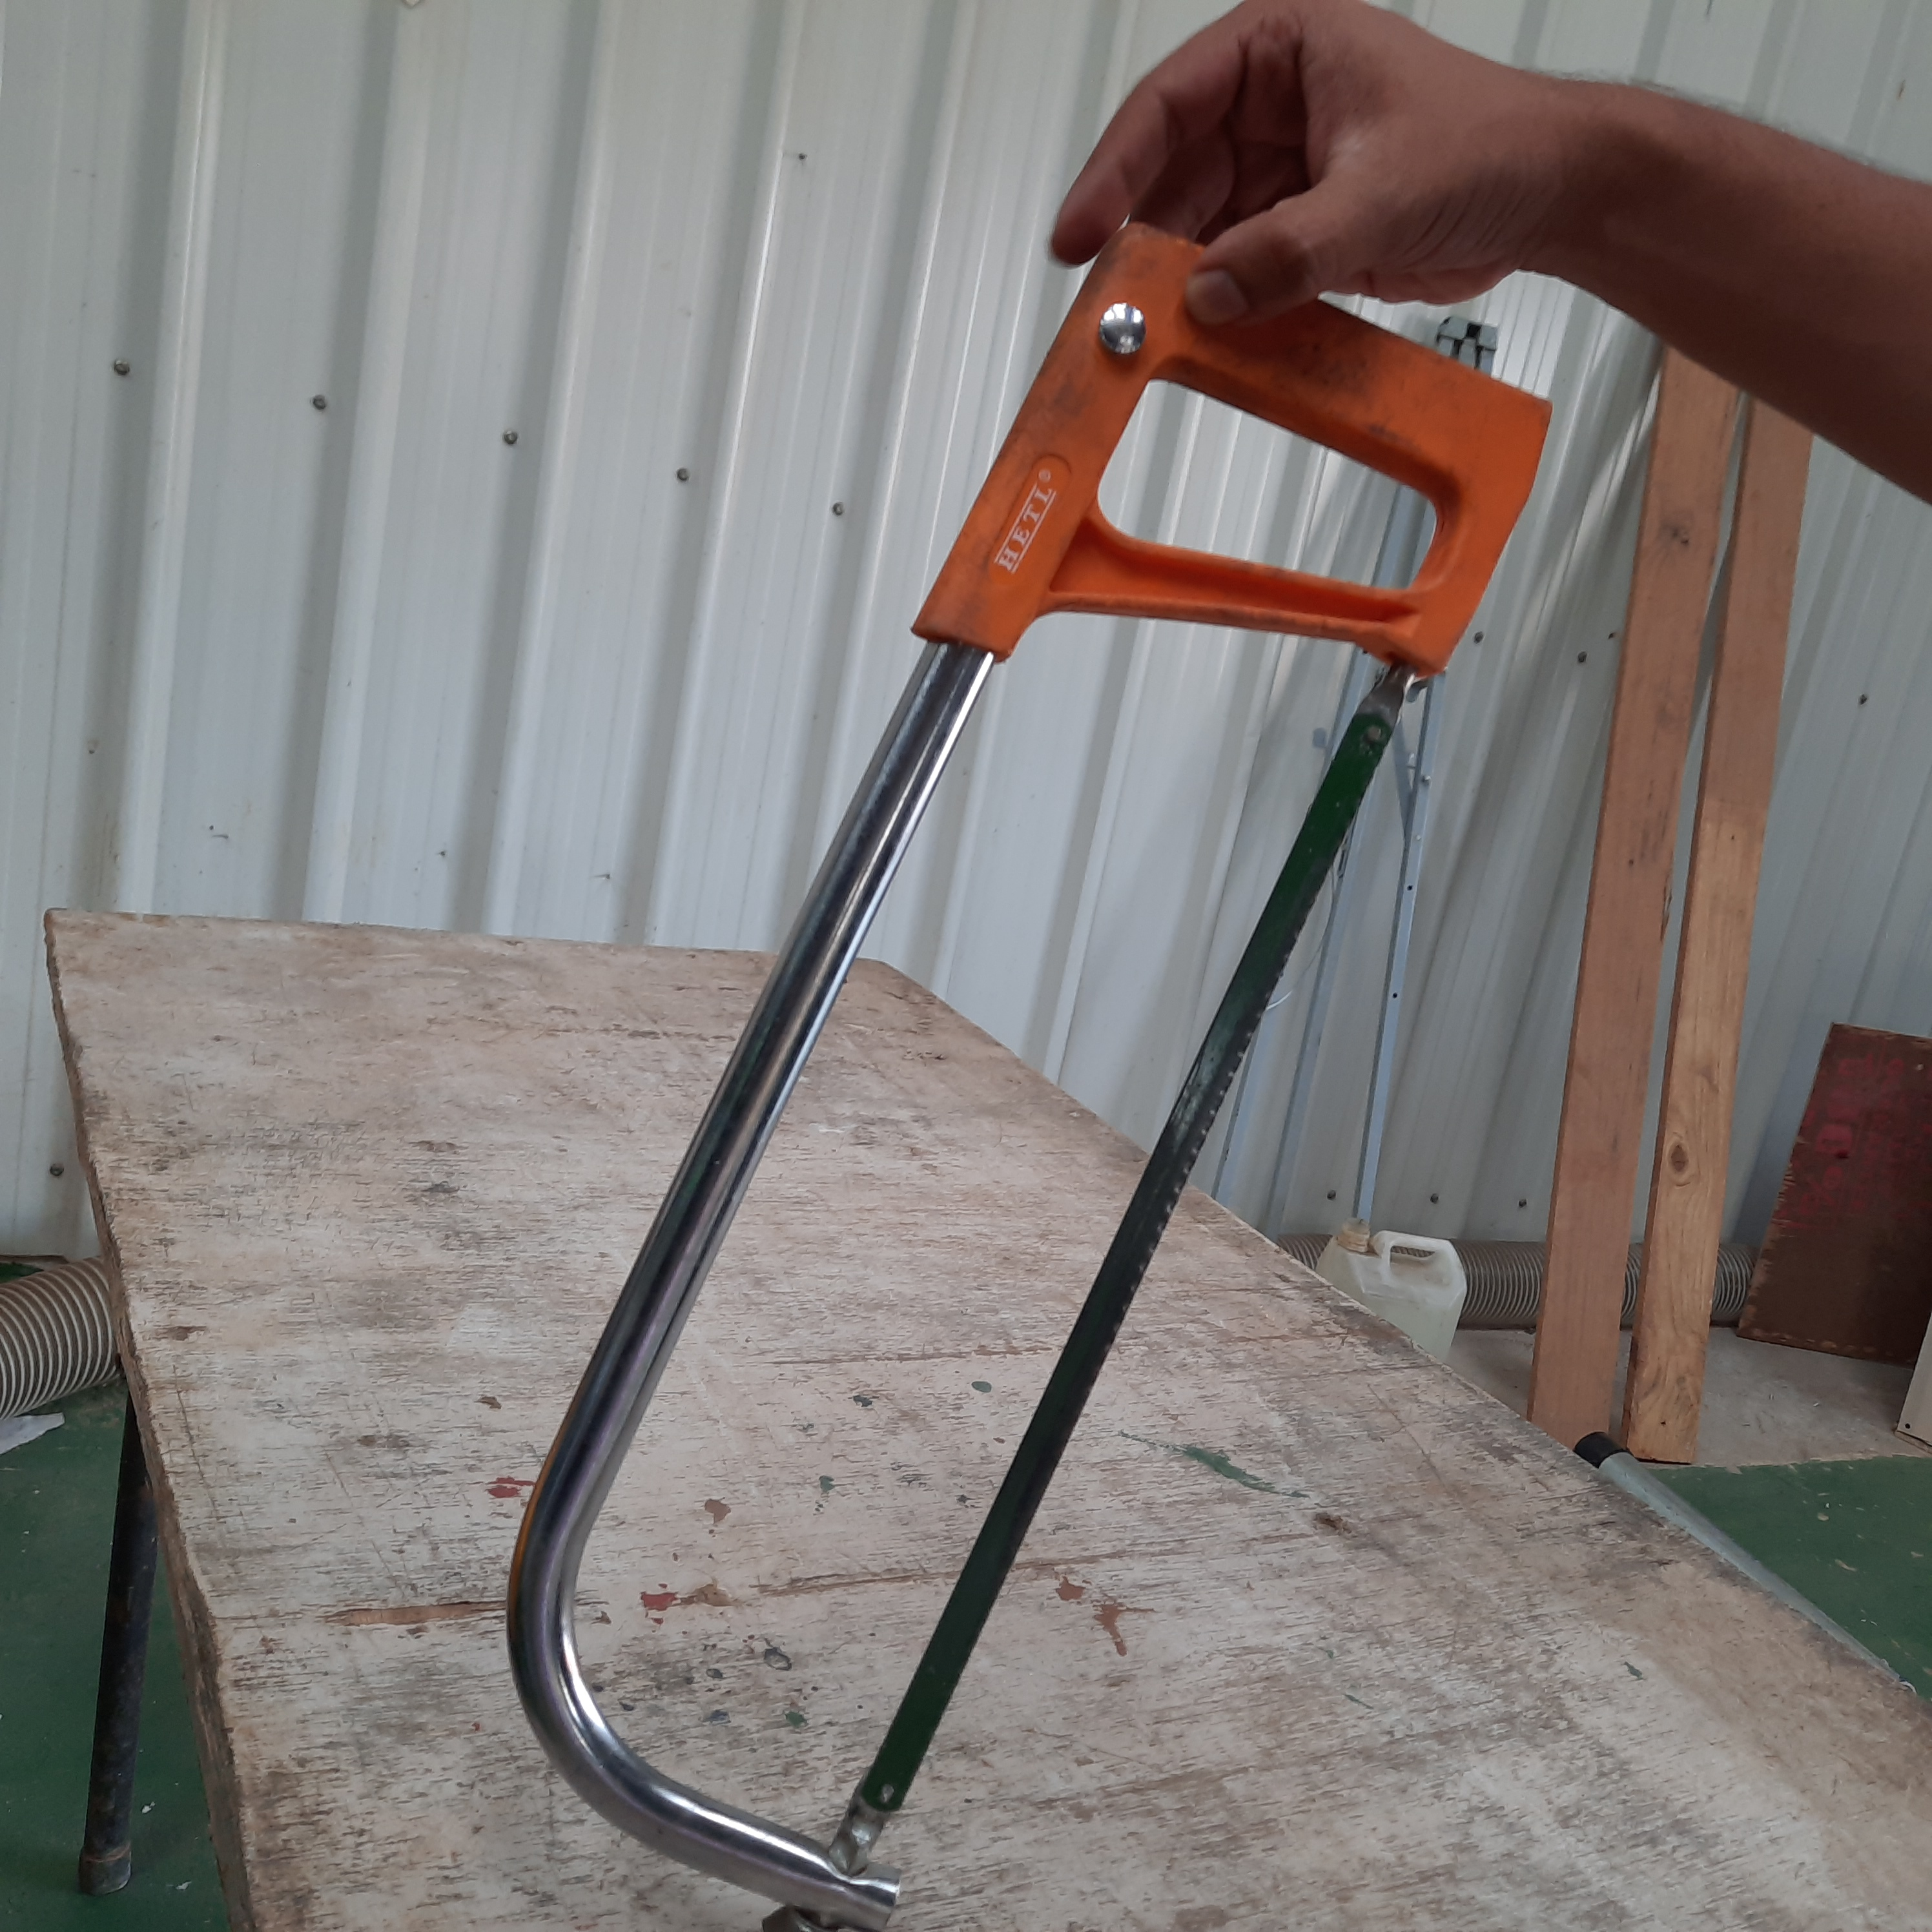Hexaframe: (467, 202, 1573, 1932)
